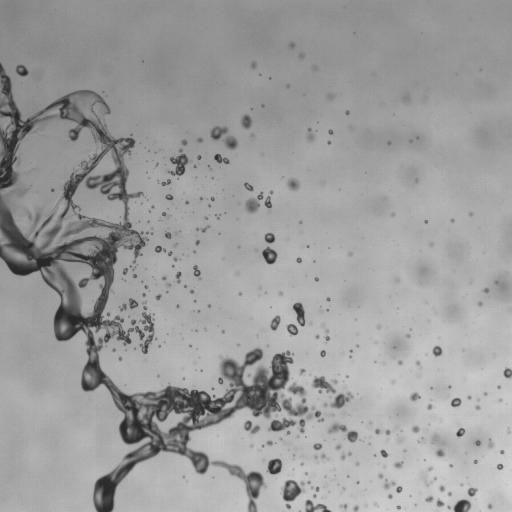droplet: (280, 480, 305, 508), (167, 149, 189, 176), (311, 376, 337, 393), (330, 391, 353, 408), (245, 192, 263, 213), (266, 458, 282, 474), (262, 247, 277, 264), (210, 126, 227, 140), (452, 499, 471, 511), (244, 420, 260, 434), (223, 136, 237, 149), (241, 114, 252, 129), (270, 315, 280, 330), (287, 178, 299, 190), (16, 65, 28, 76), (286, 324, 298, 335), (432, 345, 442, 356), (383, 480, 395, 489), (264, 233, 274, 243), (307, 128, 314, 141), (409, 392, 419, 401), (451, 398, 461, 407), (467, 487, 477, 496), (503, 367, 511, 378), (244, 182, 253, 191), (456, 428, 465, 437), (431, 434, 439, 443), (435, 449, 444, 457), (319, 453, 329, 460), (436, 499, 444, 507), (155, 245, 164, 252), (313, 443, 322, 450), (394, 461, 403, 468), (380, 450, 388, 457), (412, 425, 419, 432), (396, 436, 403, 443), (425, 496, 433, 502), (488, 439, 493, 448), (165, 194, 172, 200), (162, 212, 169, 218), (311, 487, 319, 492), (181, 139, 187, 145), (165, 232, 171, 238), (299, 368, 305, 374), (419, 437, 425, 443), (335, 444, 341, 450), (438, 485, 444, 491), (396, 486, 402, 492), (340, 504, 347, 509), (251, 62, 256, 68), (155, 294, 161, 299), (320, 350, 325, 356), (427, 404, 433, 409), (266, 440, 272, 445), (353, 505, 358, 511), (296, 257, 301, 262), (475, 440, 480, 445), (497, 464, 502, 469), (123, 268, 127, 274), (166, 282, 170, 288), (483, 288, 489, 292), (299, 53, 304, 57), (327, 94, 332, 98), (328, 129, 332, 134), (197, 138, 202, 142), (398, 360, 402, 365), (475, 405, 480, 409), (427, 467, 432, 471), (378, 474, 383, 478), (290, 43, 294, 47), (345, 110, 349, 114), (197, 155, 201, 159), (195, 240, 199, 244), (168, 251, 172, 255), (162, 276, 166, 280), (314, 277, 318, 281), (278, 291, 282, 295), (326, 297, 330, 301), (478, 302, 482, 306), (315, 335, 319, 339), (467, 395, 471, 399), (447, 492, 451, 496), (388, 494, 392, 498), (396, 505, 400, 509), (488, 504, 492, 508), (404, 96, 409, 99), (173, 257, 178, 260), (406, 334, 410, 337), (286, 430, 289, 434), (500, 450, 504, 453), (431, 478, 435, 481), (327, 141, 330, 144), (211, 197, 214, 200), (185, 201, 188, 204), (133, 274, 136, 277), (190, 290, 193, 293), (142, 293, 145, 296), (118, 357, 121, 360), (499, 398, 502, 401), (324, 403, 327, 406), (314, 455, 317, 458), (474, 460, 477, 463), (313, 494, 316, 497), (374, 502, 377, 505), (388, 141, 390, 144), (470, 212, 472, 215), (494, 281, 497, 283), (144, 286, 147, 288), (239, 292, 241, 295), (176, 305, 179, 307), (377, 326, 380, 328), (497, 386, 500, 388), (484, 392, 486, 395), (356, 462, 358, 465), (450, 464, 452, 467), (447, 506, 450, 508), (251, 134, 253, 136), (51, 189, 53, 191), (151, 206, 153, 208), (217, 215, 219, 217), (451, 219, 453, 221), (431, 243, 433, 245), (349, 253, 351, 255), (132, 267, 134, 269), (107, 313, 109, 315), (309, 322, 311, 324), (350, 350, 352, 352), (369, 422, 371, 424), (250, 445, 252, 447), (307, 481, 309, 483)
ligament: (0, 63, 322, 511), (328, 422, 358, 442), (292, 302, 305, 326), (305, 499, 331, 511), (120, 298, 138, 310), (264, 190, 273, 207), (214, 154, 229, 164), (374, 428, 390, 434), (193, 265, 200, 278), (198, 225, 209, 232), (340, 452, 351, 459), (175, 271, 181, 283), (324, 329, 329, 341), (162, 179, 171, 185), (424, 478, 430, 486), (416, 361, 420, 367)
